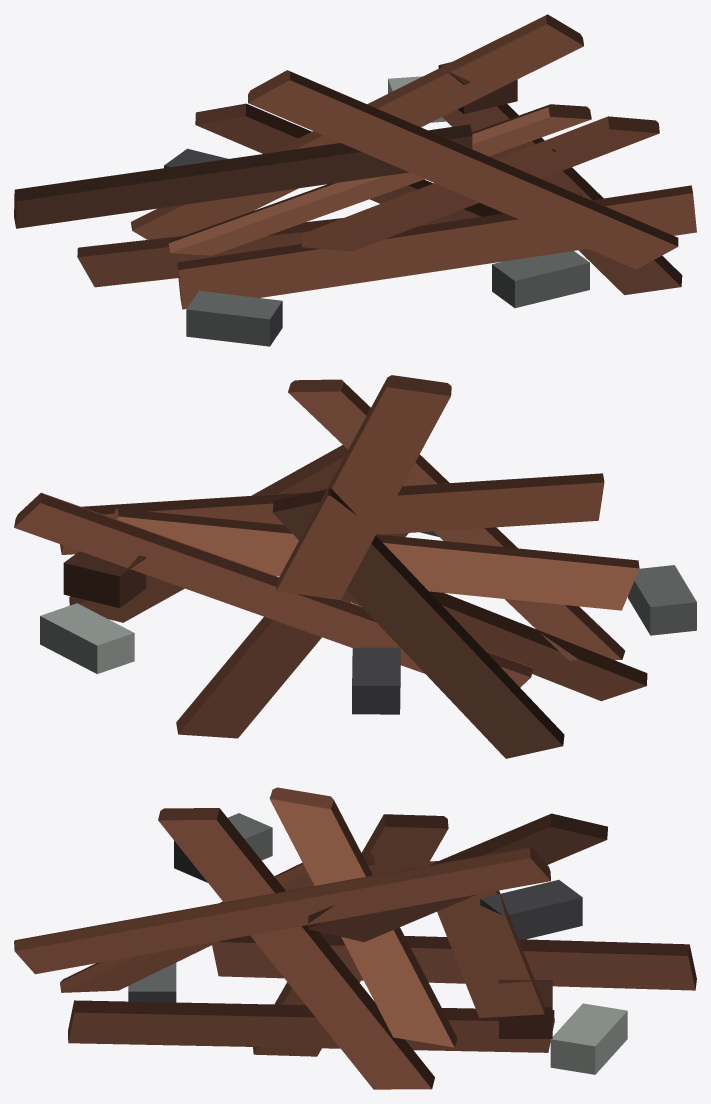
Rendered from ConstructionDebris_01.glb.
3 renders of one model, top to bottom at view 1: azimuth 30°, elevation 25°; view 2: azimuth 150°, elevation 25°; view 3: azimuth 270°, elevation 25°, orthographic. The views are drawn at different scales.
Visible parts, largest first — view 1: ConstructionDebris_01; view 2: ConstructionDebris_01; view 3: ConstructionDebris_01.
Part boxes in pixels (box(x1,y1,x2,y2)): ConstructionDebris_01: box(14, 14, 696, 346); ConstructionDebris_01: box(14, 375, 696, 758); ConstructionDebris_01: box(14, 787, 696, 1089).
Size of what is drawn, in the model's own units: 2.66 by 0.4796 by 2.68.
1 material, 1 textured.
